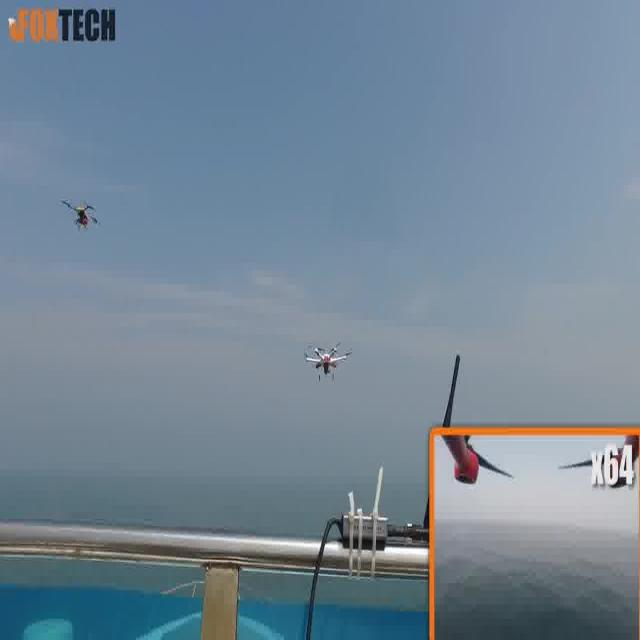drone: (303, 340, 353, 384), (58, 195, 102, 235)
